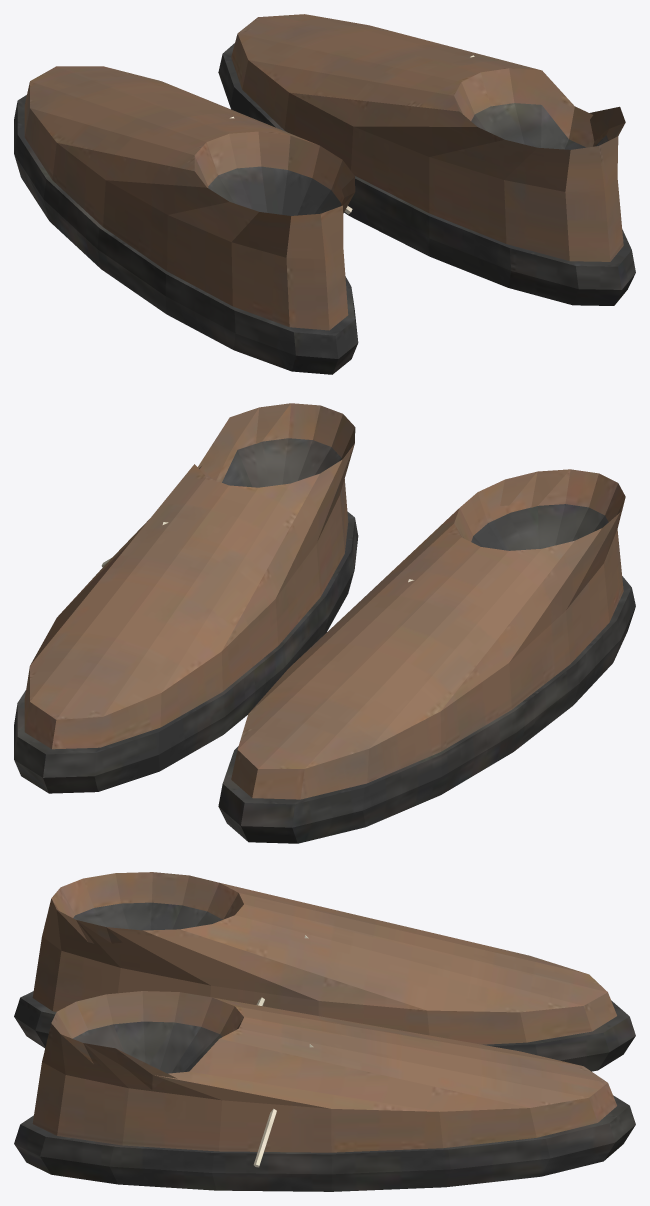
The model's file is D10_old_shoes_pair_v1.glb.
The picture shows the model from 3 angles, top to bottom: view 1: azimuth 30°, elevation 25°; view 2: azimuth 150°, elevation 25°; view 3: azimuth 270°, elevation 25°; orthographic projection. The views are drawn at different scales.
Parts seen in each view (by area): view 1: Cracked layered sole; view 2: Cracked layered sole; view 3: Cracked layered sole.
Part boxes in pixels (<box>): Cracked layered sole: <box>14,14,635,374</box>; Cracked layered sole: <box>14,403,635,843</box>; Cracked layered sole: <box>14,872,635,1191</box>.
Bounding box in the file's own units: 0.2331 × 0.0738 × 0.3.
5 materials, 5 textured.
